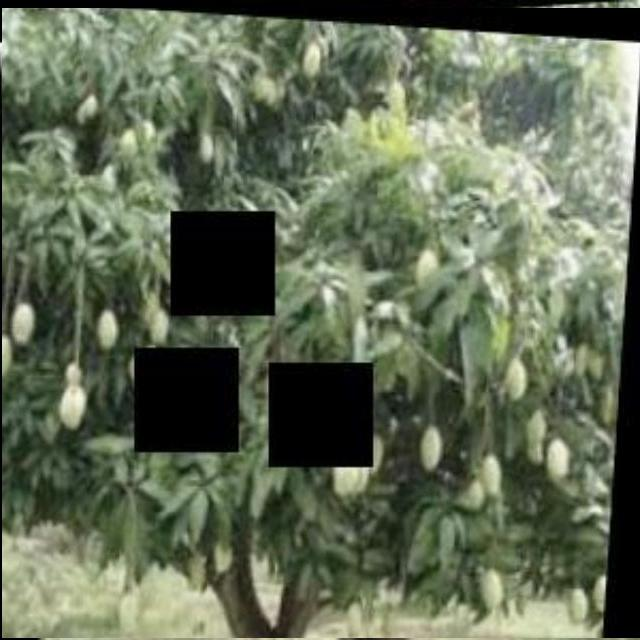tree: (2, 8, 640, 638)
